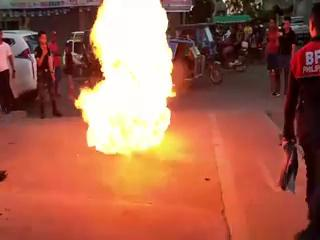Fire: (72, 0, 177, 157)
